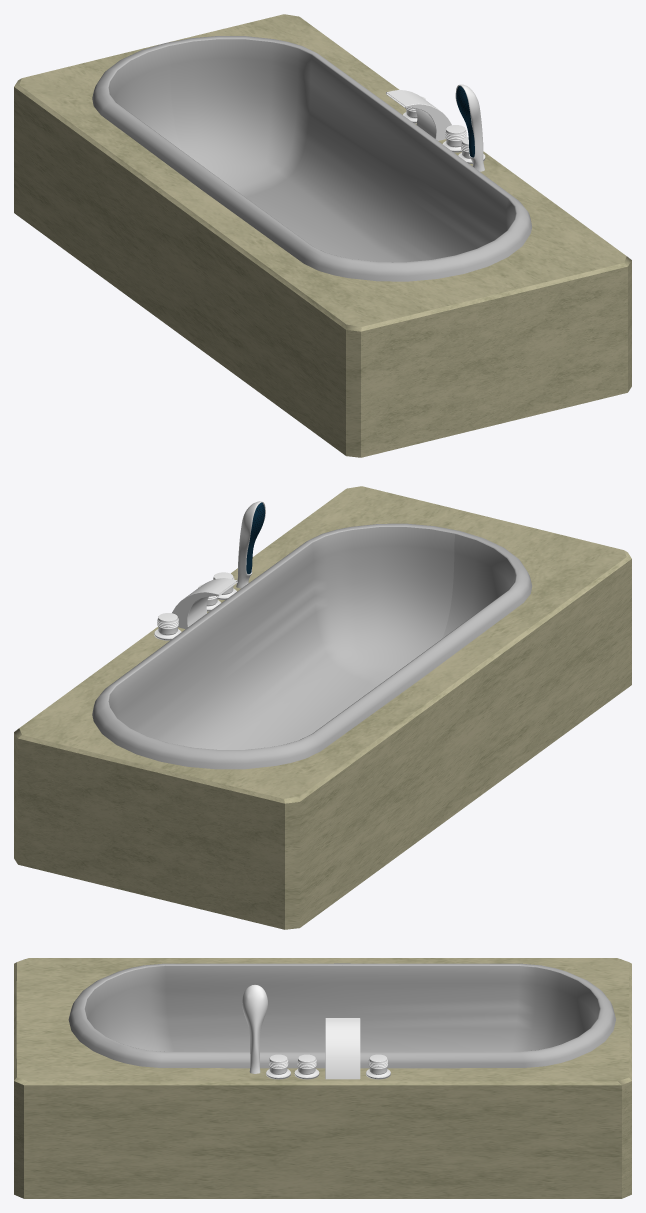
Rendered from obj_bath_1baff1.glb.
The picture shows the model from 3 angles, top to bottom: view 1: azimuth 30°, elevation 25°; view 2: azimuth 150°, elevation 25°; view 3: azimuth 270°, elevation 25°; orthographic projection. The views are drawn at different scales.
Visible parts, largest first — view 1: obj_bath_1baff1; view 2: obj_bath_1baff1; view 3: obj_bath_1baff1.
Boxes of the visible parts, box(x1,y1,x2,y2) form: obj_bath_1baff1: box(14, 14, 631, 457); obj_bath_1baff1: box(14, 486, 631, 929); obj_bath_1baff1: box(14, 958, 631, 1198).
Bounding box in the file's own units: 0.2886 × 0.2095 × 0.6.
Materials: 4 (4 with a texture image).
